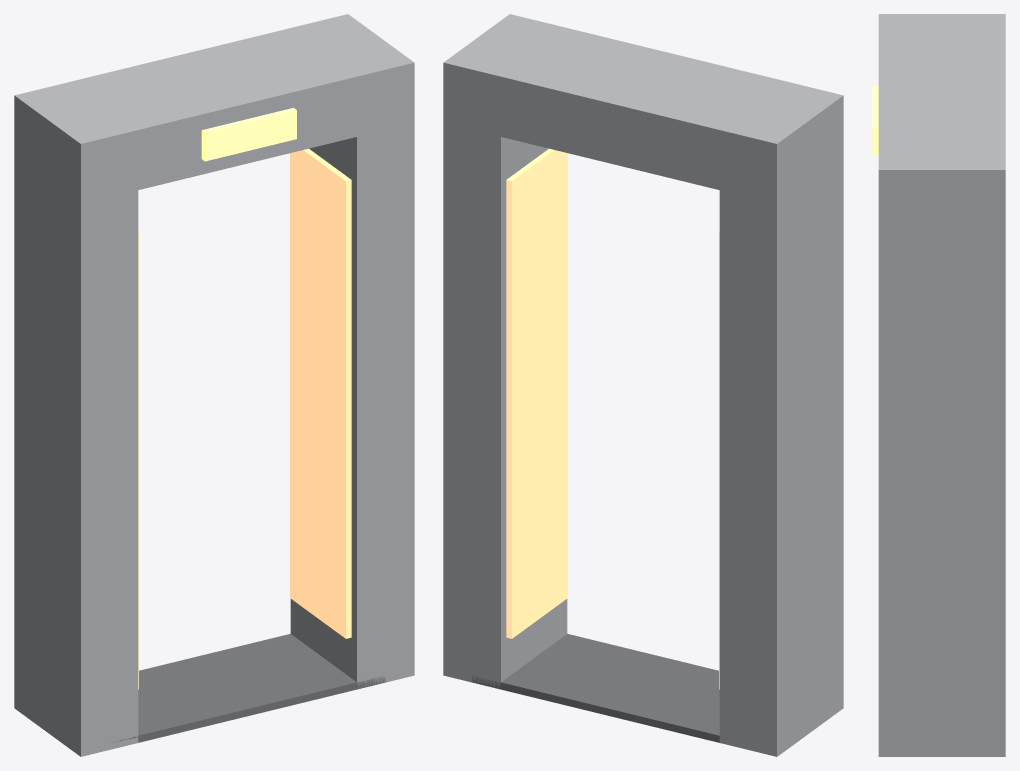
Rendered from SM_Security_Gate.fbx.
3 views of the same model, side by side, from view 1: azimuth 30°, elevation 25°; view 2: azimuth 150°, elevation 25°; view 3: azimuth 270°, elevation 25° (orthographic). The views are drawn at different scales.
Visible parts, largest first — view 1: SM_Security_Gate; view 2: SM_Security_Gate; view 3: SM_Security_Gate.
Boxes of the visible parts, x1,y1,x2,y2 form: SM_Security_Gate: (14, 14, 414, 756); SM_Security_Gate: (443, 14, 843, 756); SM_Security_Gate: (872, 14, 1005, 756).
Size of the model in its own units: 1.45 by 2.55 by 0.525.
